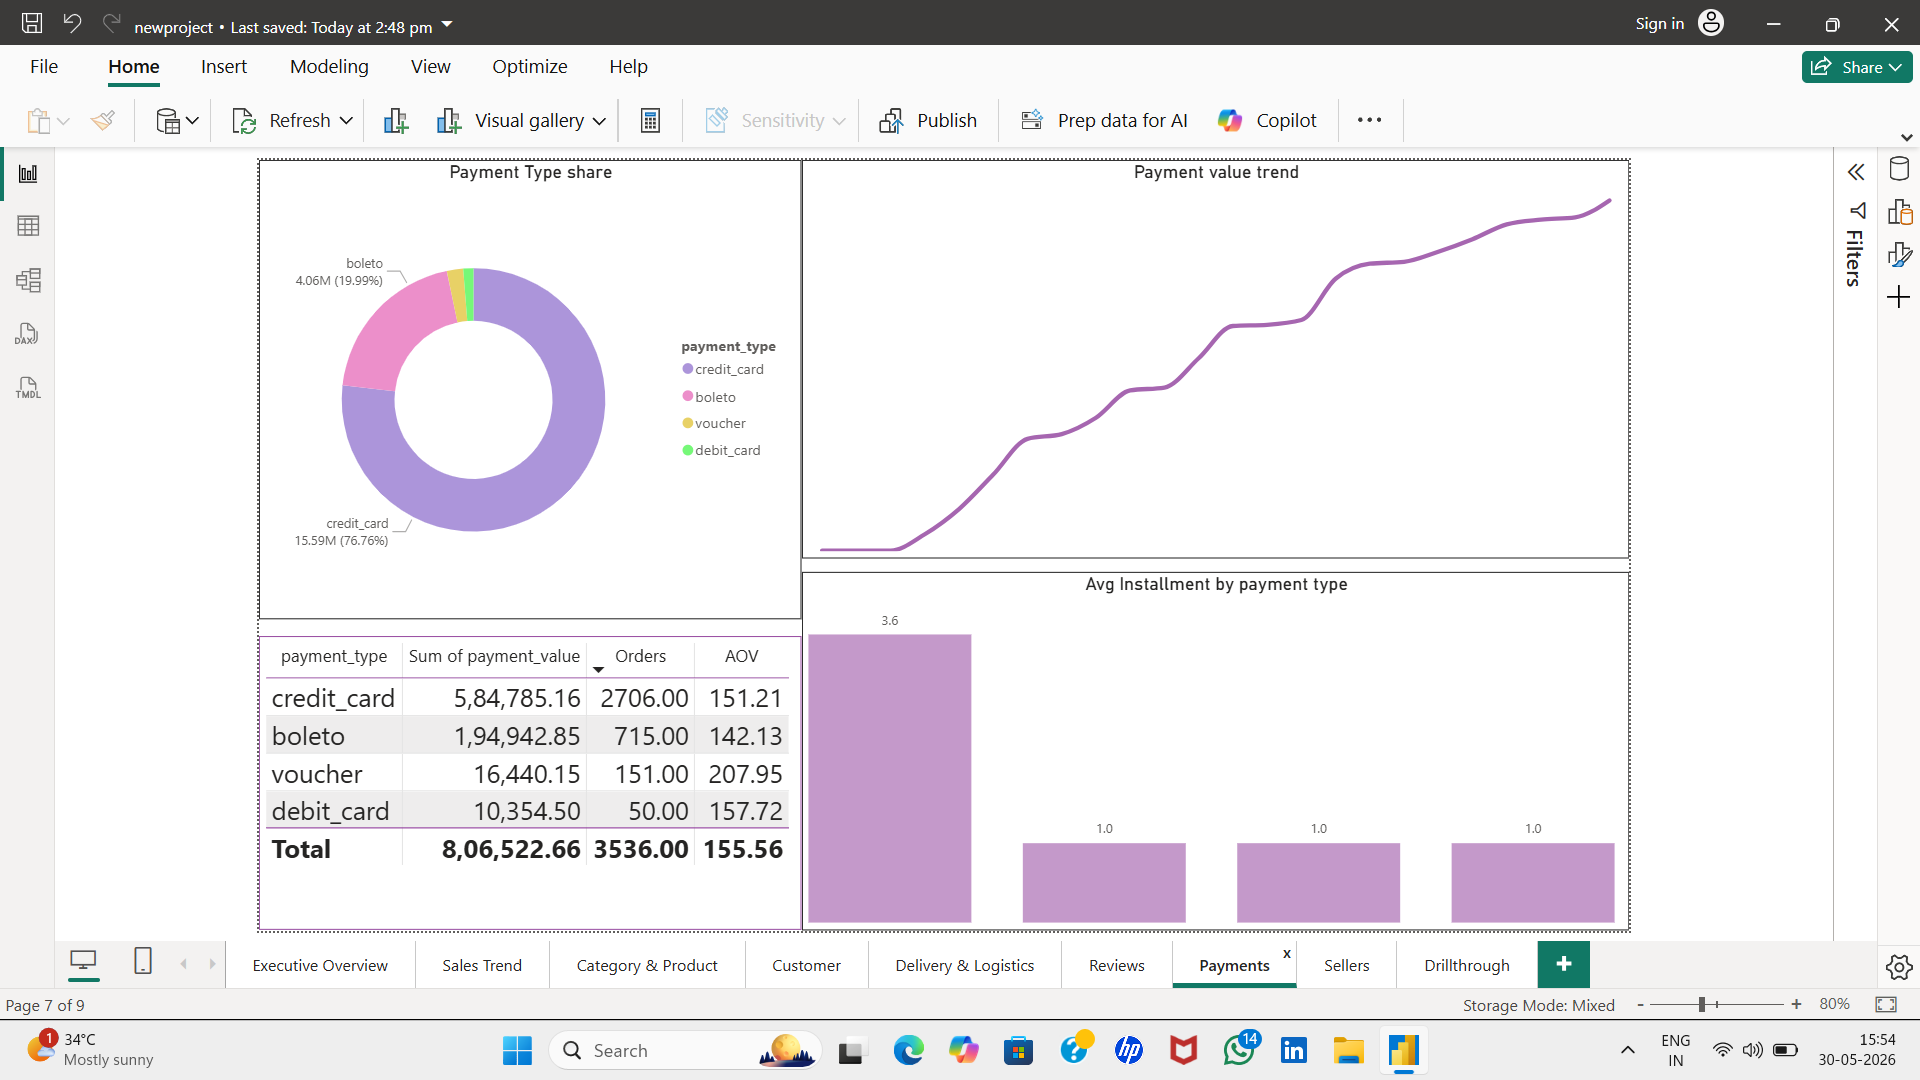

What the dashboard file says about the page in this screenshot:
{"tool":"powerbi","page":{"name":"Payments","canvas":[1280,720],"ordinal":6},"visuals":[{"type":"donutChart","title":"Payment Type share","fields":{"Category":["public bi_fact_sales.payment_type"],"Y":["public bi_fact_sales.Payment Value"]},"box":[0,0,507,429],"z":0},{"type":"clusteredColumnChart","title":"Avg Installment by payment  type","fields":{"Y":["public bi_fact_sales.Avg Installments"],"Category":["public bi_fact_sales.payment_type"]},"box":[507,385.1,773.4,334.7],"z":1000},{"type":"lineChart","title":"Payment value trend","fields":{"Category":["DimDate.Year-Month"],"Y":["Sum(public bi_fact_sales.payment_value)"]},"box":[507,0,773.4,372.1],"z":2000},{"type":"tableEx","title":"Top 20 categories ","fields":{"Values":["public bi_fact_sales.payment_type","Sum(public bi_fact_sales.payment_value)","public bi_fact_sales.Orders","public bi_fact_sales.AOV"]},"box":[0,445.2,507,274.6],"z":3000}]}

Visuals, with their boxes on the page's 1280x720 design canvas (x1, y1, x2, y2). These are canvas units, not pixel positions in the 1920x1080 screenshot, which may show the page scaled, cropped or inside an application window:
"Payment Type share" donutChart: BBox(0, 0, 507, 429)
"Avg Installment by payment  type" clusteredColumnChart: BBox(507, 385, 1280, 720)
"Payment value trend" lineChart: BBox(507, 0, 1280, 372)
"Top 20 categories " tableEx: BBox(0, 445, 507, 720)
